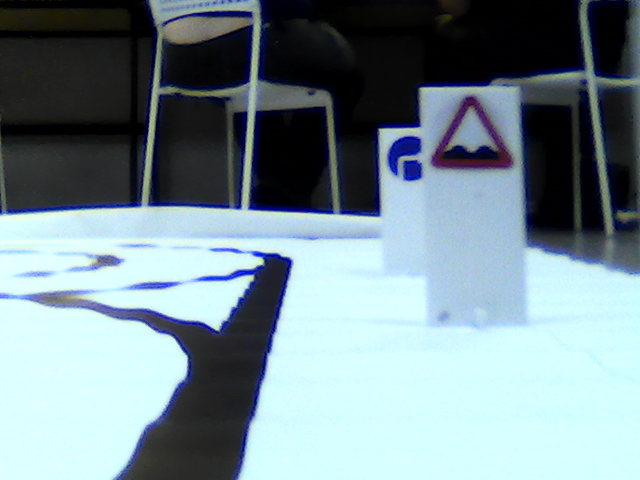Nerov: (430, 94, 515, 167)
Right: (390, 135, 424, 178)
